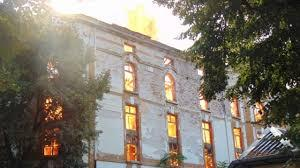fire: (118, 10, 262, 162), (37, 90, 70, 168)
